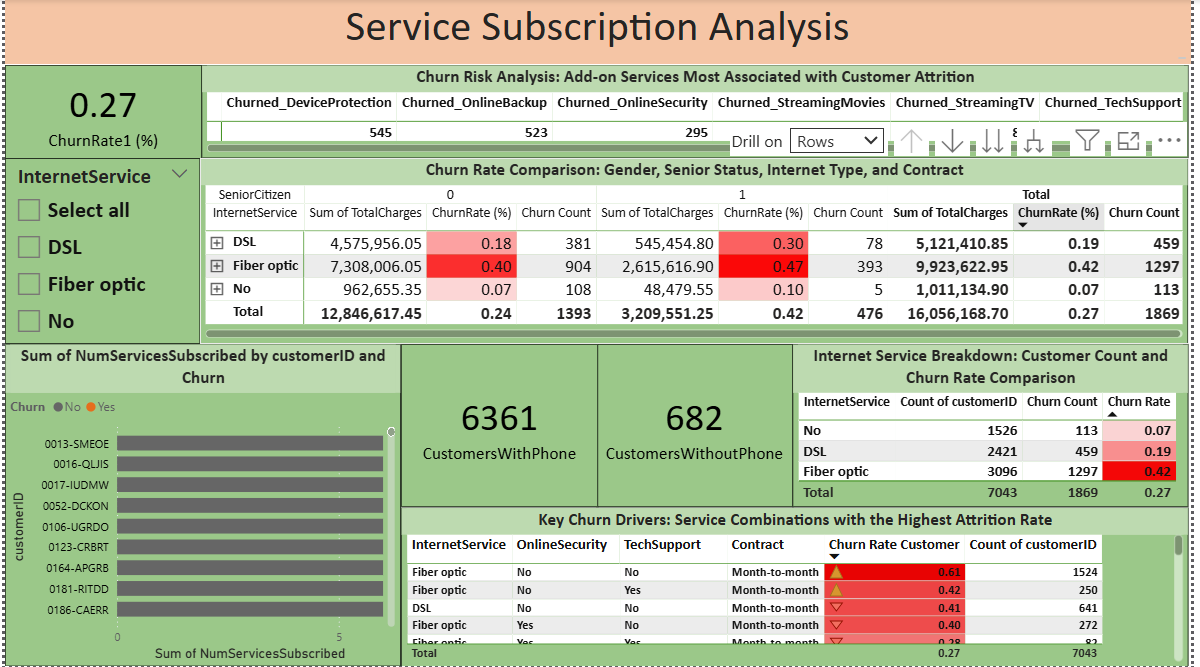

This screenshot's page, from the dashboard's own definition file:
{"tool":"powerbi","page":{"name":"Page 3","canvas":[1280,720],"ordinal":2},"visuals":[{"type":"textbox","title":"Service Subscription Analysis","box":[0,0,1279.4,69.9],"z":0},{"type":"card","fields":{"Values":["Customer Churn Data.CustomersWithoutPhone"]},"box":[637.6,372.5,212.5,176.1],"z":1000},{"type":"card","fields":{"Values":["Customer Churn Data.CustomersWithPhone"]},"box":[427.1,372.5,212.5,176.1],"z":2000},{"type":"slicer","fields":{"Values":["Customer Churn Data.InternetService"]},"box":[0,172.1,210.5,200.4],"z":3000},{"type":"card","fields":{"Values":["Customer Churn Data.ChurnRate1 (%)"]},"box":[0,70.8,212.5,101.2],"z":4000},{"type":"pivotTable","title":"Churn Risk Analysis: Add-on Services Most Associated with Customer Attrition","fields":{"Values":["Customer Churn Data.Churned_DeviceProtection","Customer Churn Data.Churned_OnlineBackup","Customer Churn Data.Churned_OnlineSecurity","Customer Churn Data.Churned_StreamingMovies","Customer Churn Data.Churned_StreamingTV","Customer Churn Data.Churned_TechSupport"]},"box":[212.1,71.2,1065.5,100.4],"z":5000},{"type":"barChart","fields":{"Series":["Customer Churn Data.Churn"],"Category":["Customer Churn Data.customerID"],"Y":["Sum(Customer Churn Data.NumServicesSubscribed)"]},"box":[0,372.5,427.1,348.2],"z":6000},{"type":"tableEx","title":"Internet Service Breakdown: Customer Count and Churn Rate Comparison","fields":{"Values":["Customer Churn Data.InternetService","Customer Churn Data.customerID","Customer Churn Data.Churn Count","Customer Churn Data.Churn Rate"]},"box":[850.2,372.5,427.1,176.1],"z":7000},{"type":"tableEx","title":"Key Churn Drivers: Service Combinations with the Highest Attrition Rate","fields":{"Values":["Customer Churn Data.InternetService","Customer Churn Data.OnlineSecurity","Customer Churn Data.TechSupport","Customer Churn Data.Contract","Customer Churn Data.Churn Rate Customer","Customer Churn Data.customerID"]},"box":[427.1,548.6,850.2,172.1],"z":8000},{"type":"pivotTable","title":"Churn Rate Comparison: Gender, Senior Status, Internet Type, and Contract","fields":{"Rows":["Customer Churn Data.InternetService","Customer Churn Data.Contract"],"Columns":["Customer Churn Data.SeniorCitizen","Customer Churn Data.gender"],"Values":["Sum(Customer Churn Data.TotalCharges)","Customer Churn Data.ChurnRate (%)","Customer Churn Data.Churn Count"]},"box":[210.5,172.1,1066.8,200.4],"z":9000}]}

Visuals, with their boxes in screenshot pixels (x1, y1, x2, y2), scaled from the page's 1280x720 canvas onto the 1200x667 screenshot:
"Service Subscription Analysis" textbox: crop(0, 0, 1199, 65)
card - Customer Churn Data.CustomersWithoutPhone: crop(598, 345, 797, 508)
card - Customer Churn Data.CustomersWithPhone: crop(400, 345, 600, 508)
slicer - Customer Churn Data.InternetService: crop(0, 159, 197, 345)
card - Customer Churn Data.ChurnRate1 (%): crop(0, 66, 199, 159)
"Churn Risk Analysis: Add-on Services Most Associated with Customer Attrition" pivotTable: crop(199, 66, 1198, 159)
barChart - Customer Churn Data.Churn x Customer Churn Data.customerID: crop(0, 345, 400, 666)
"Internet Service Breakdown: Customer Count and Churn Rate Comparison" tableEx: crop(797, 345, 1197, 508)
"Key Churn Drivers: Service Combinations with the Highest Attrition Rate" tableEx: crop(400, 508, 1197, 666)
"Churn Rate Comparison: Gender, Senior Status, Internet Type, and Contract" pivotTable: crop(197, 159, 1197, 345)
